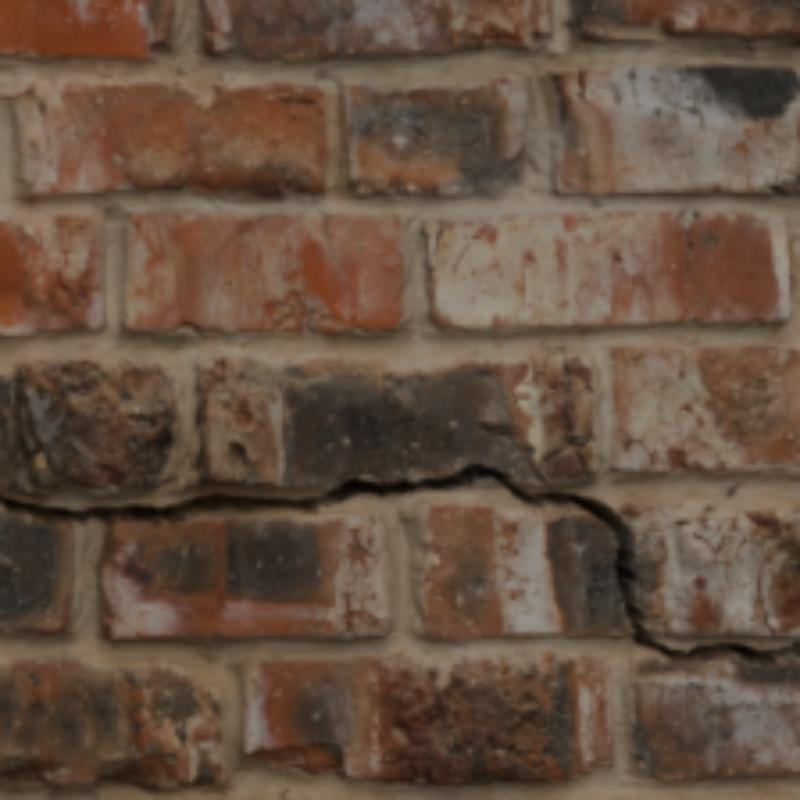pothole: (0, 464, 796, 664)
